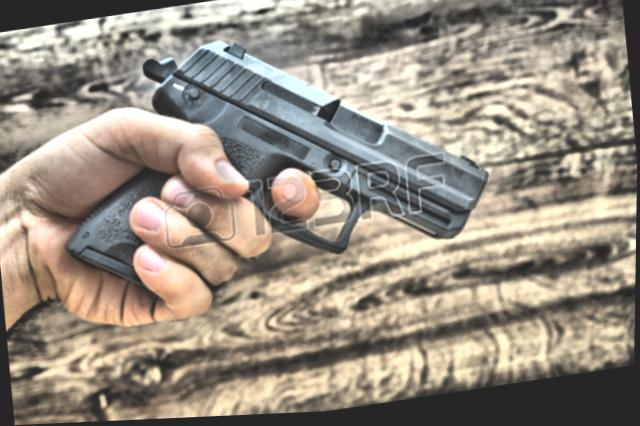pistol: (45, 7, 498, 301)
